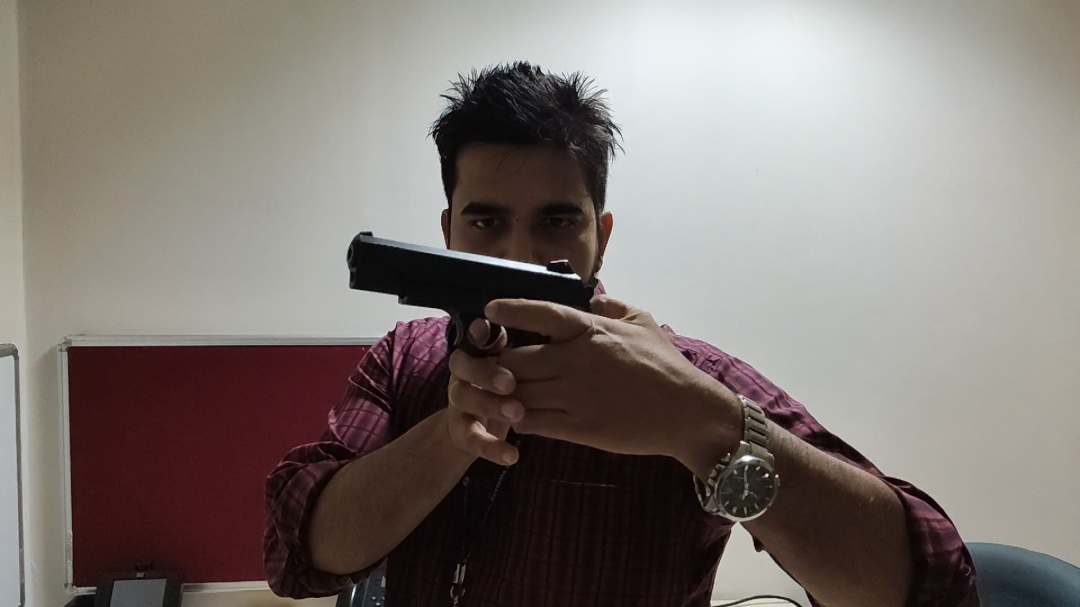gun: (345, 231, 594, 350)
